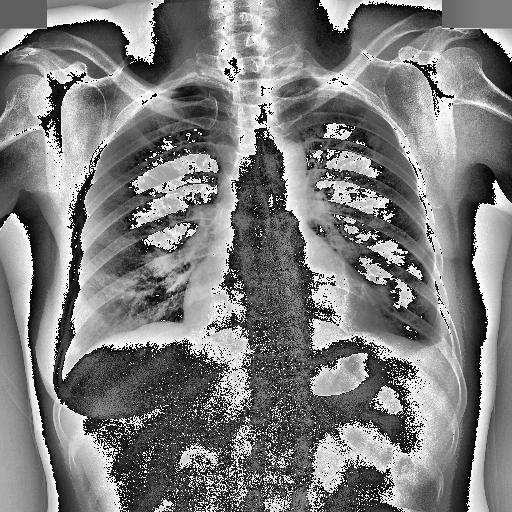10- Pleural effusion: (421, 310, 456, 362), (417, 322, 456, 366), (424, 324, 451, 364)
11- Pleural thickening: (421, 310, 456, 362), (424, 324, 451, 364)
7- Lung Opacity: (146, 245, 171, 274), (370, 146, 386, 170)
8- Nodule-Mass: (144, 248, 174, 279), (376, 276, 402, 304), (314, 124, 328, 136), (345, 98, 358, 109), (369, 136, 381, 147), (370, 156, 382, 166), (356, 112, 364, 122)
9- Other lesion: (378, 281, 402, 305), (370, 146, 386, 170)
